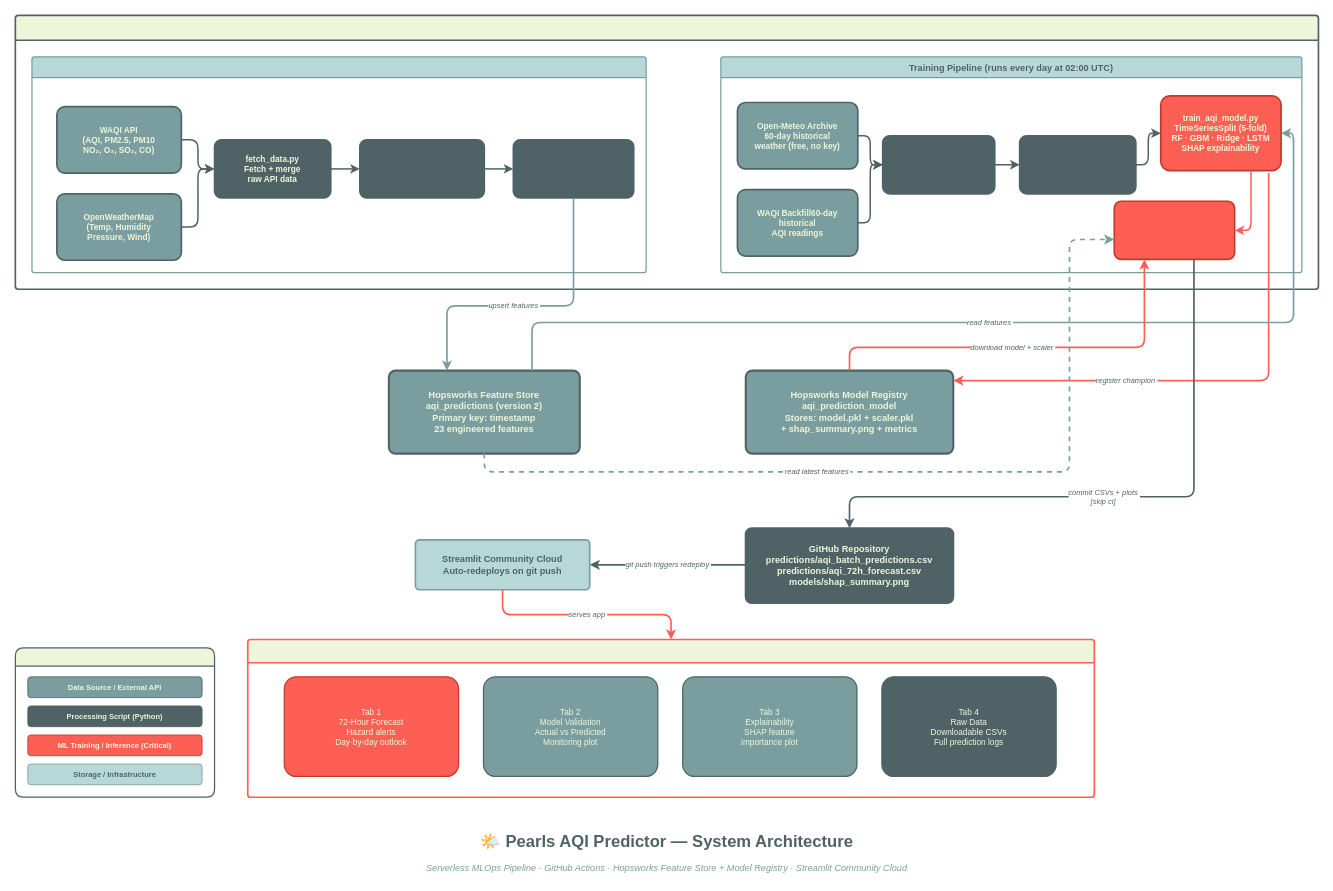
Image size: 1333x891. Some labels were removed from this diagram. The shapes that lost their labels are listed below. From the top down, each one's box as (x1, y1, x2, y2) in pixels, then its label:
(31, 56, 646, 273): Feature Pipeline (runs every hour)
(359, 139, 485, 198): feature_engineering.py Lag features, rolling stats time encodings (23 features)
(512, 139, 634, 198): upload_to_hopsworks.py Dtype cast + upsert to Feature Store
(14, 14, 1319, 290): GitHub Actions (CI/CD Automation)
(881, 134, 995, 194): backfill_data.py Merge + expand to hourly, push to store
(1018, 134, 1136, 194): feature_engineering.py 23 features on backfilled dataset
(1113, 200, 1235, 260): batch_inference.py 72h autoregressive forecast + validation CSVs
(14, 647, 215, 797): Legend
(247, 638, 1095, 798): 🌤️ Pearls AQI Predictor Dashboard
